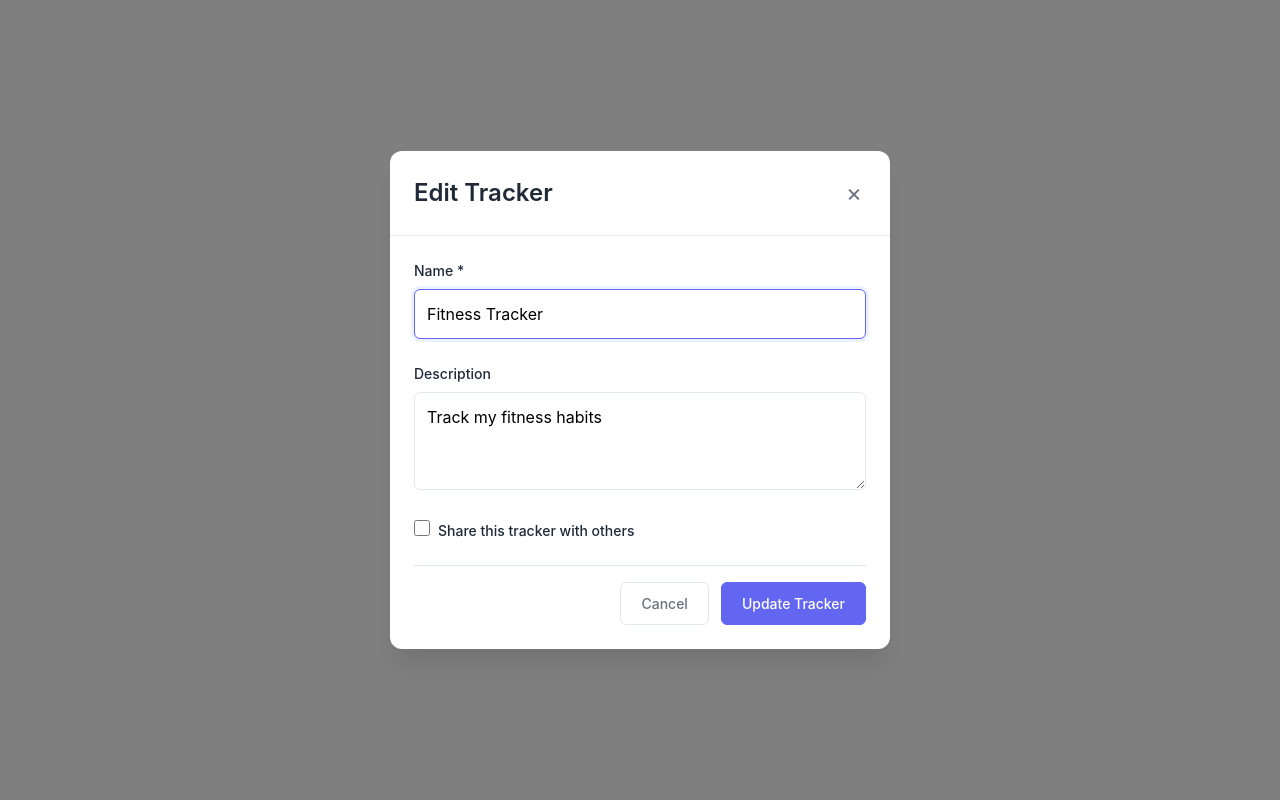
Test case: EditTrackerModal Component › validates name format
Test invalid characters
Replace the text in the field showing "Fitness Tracker" with "Invalid@Name!" at coordinates (640, 314), box [414,289,866,339]
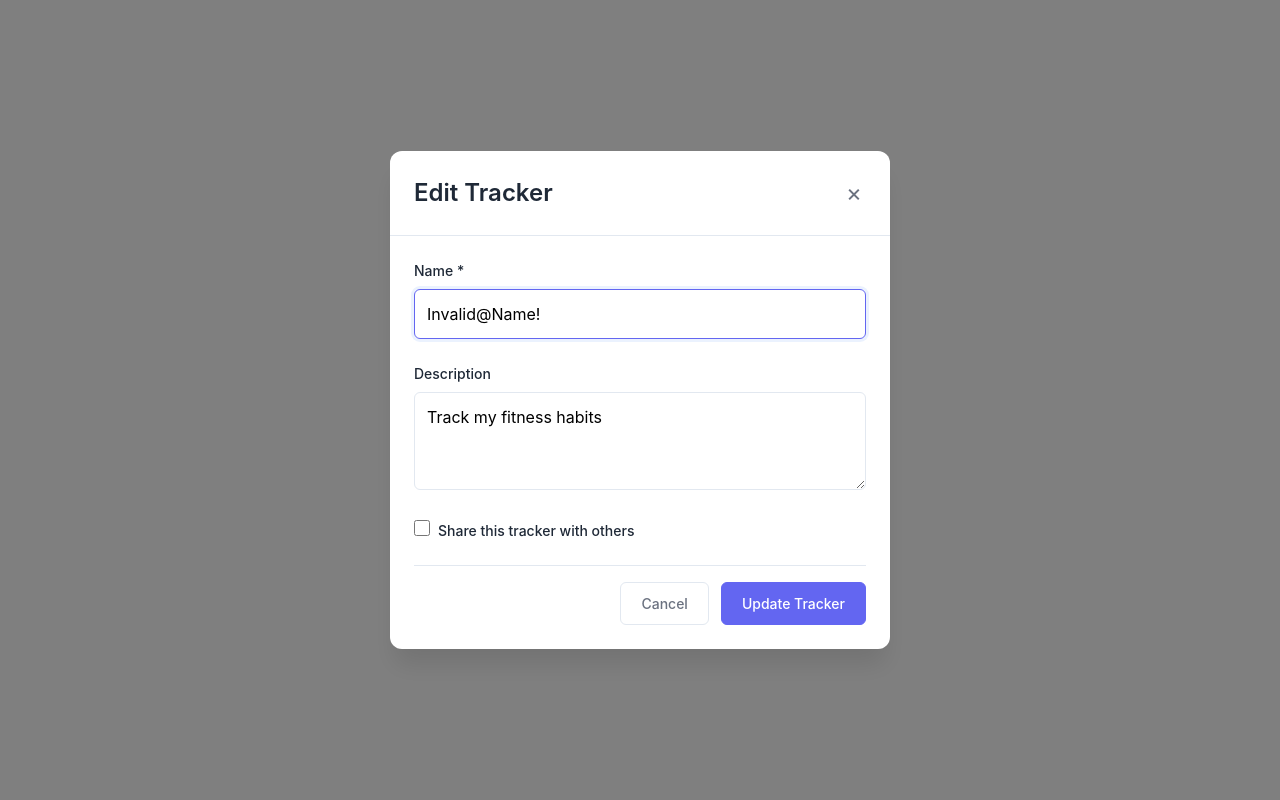
Click the button "Update Tracker" at coordinates (793, 604), box [721,582,866,625]
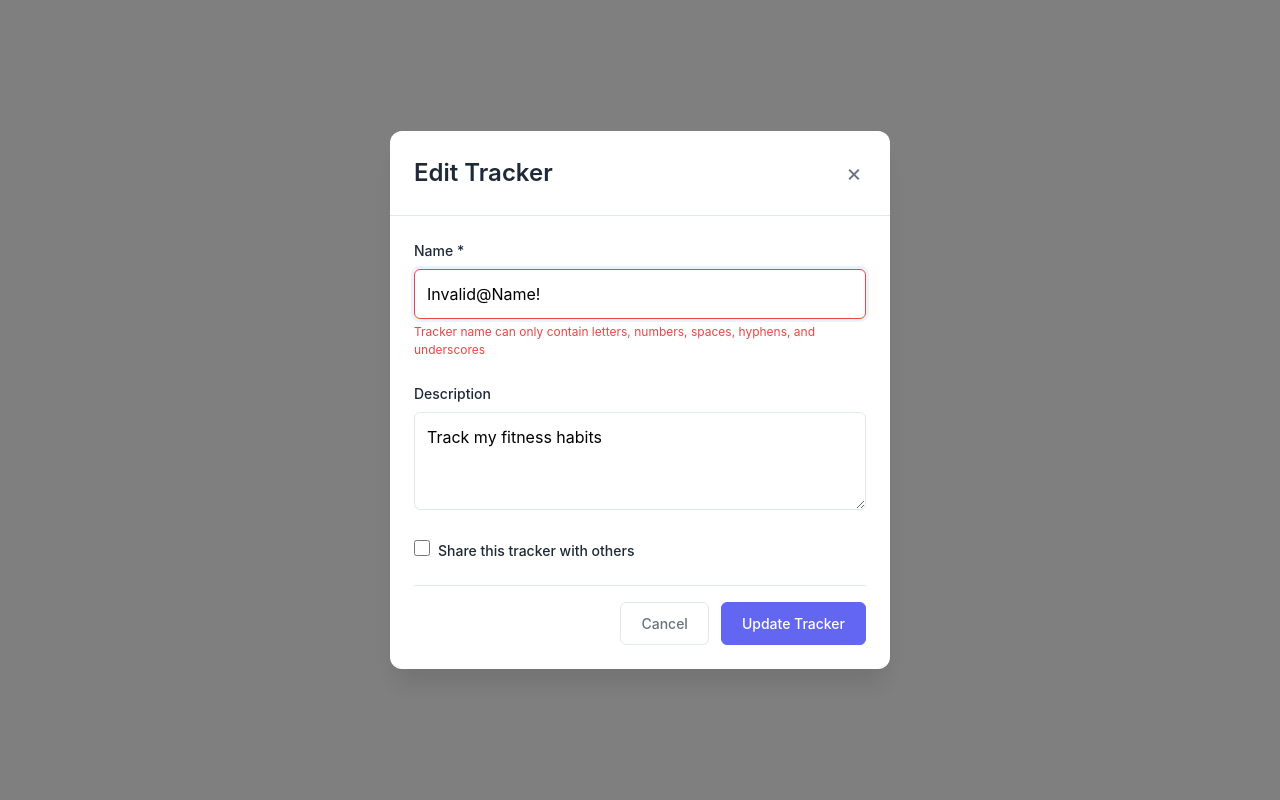
Expected: the text "can only contain letters, numbers, spaces, hyphens, and underscores" is shown, [414,324,815,357]
